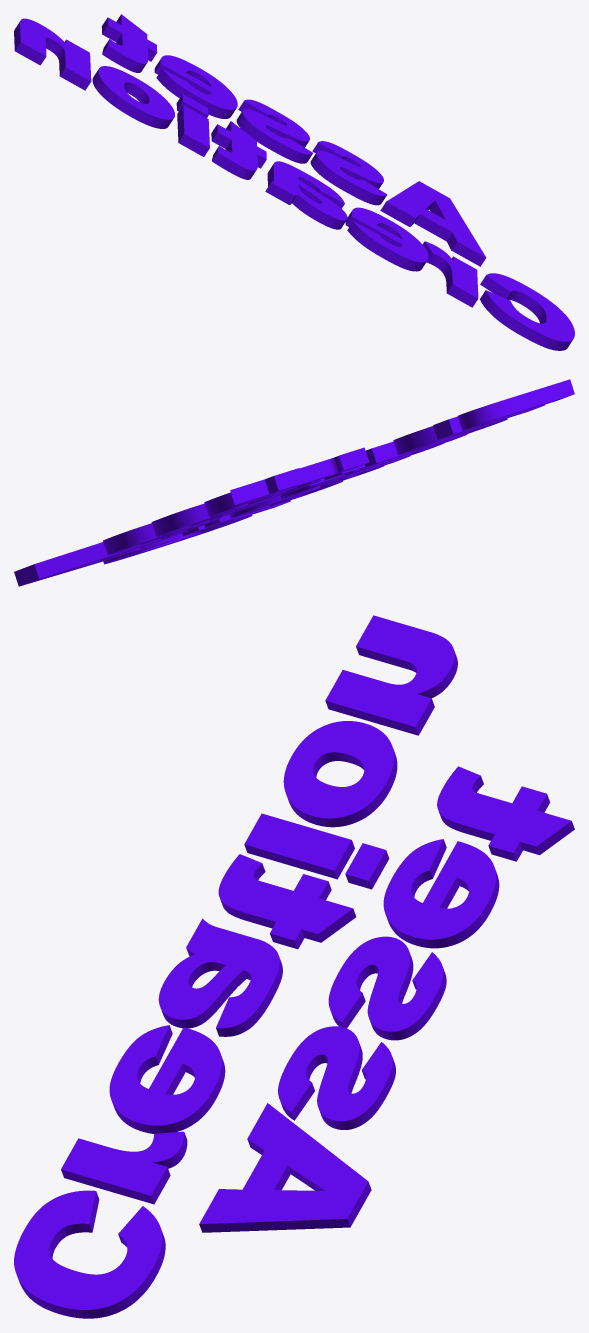
3 renders of one model, top to bottom at view 1: azimuth 30°, elevation 25°; view 2: azimuth 150°, elevation 25°; view 3: azimuth 270°, elevation 25°, orthographic. The views are drawn at different scales.
Parts seen in each view (by area): view 1: Text; view 2: Text; view 3: Text.
Part boxes in pixels (x1,y1,x2,y2): Text: (14, 14, 574, 350); Text: (14, 379, 574, 586); Text: (14, 615, 574, 1318).
Bounding box in the file's own units: 4.85 × 3.29 × 3.97.
1 material, 1 textured.
